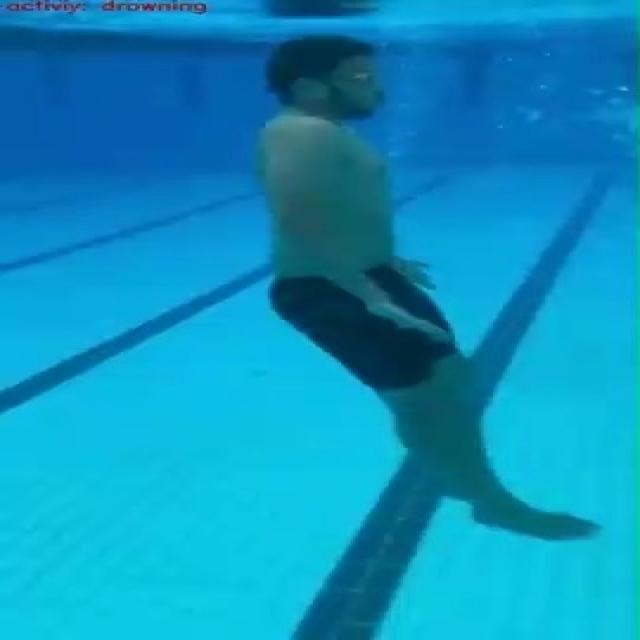Drowning: (247, 31, 605, 543)
